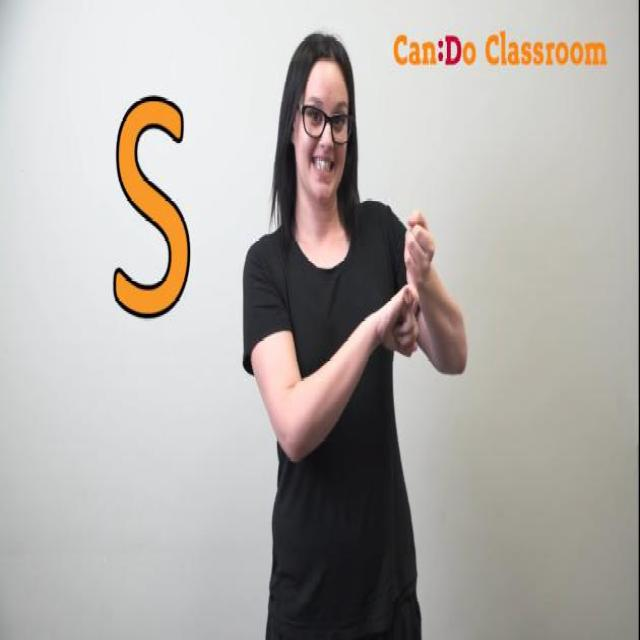A: (382, 200, 442, 377)
